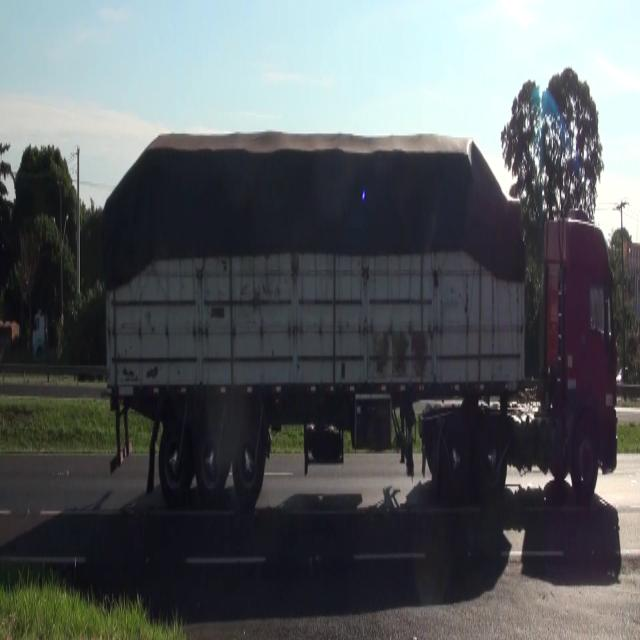-axle: (474, 414, 508, 504), (232, 416, 268, 500), (194, 414, 228, 492), (159, 414, 191, 496), (439, 414, 469, 499), (571, 422, 600, 504)
